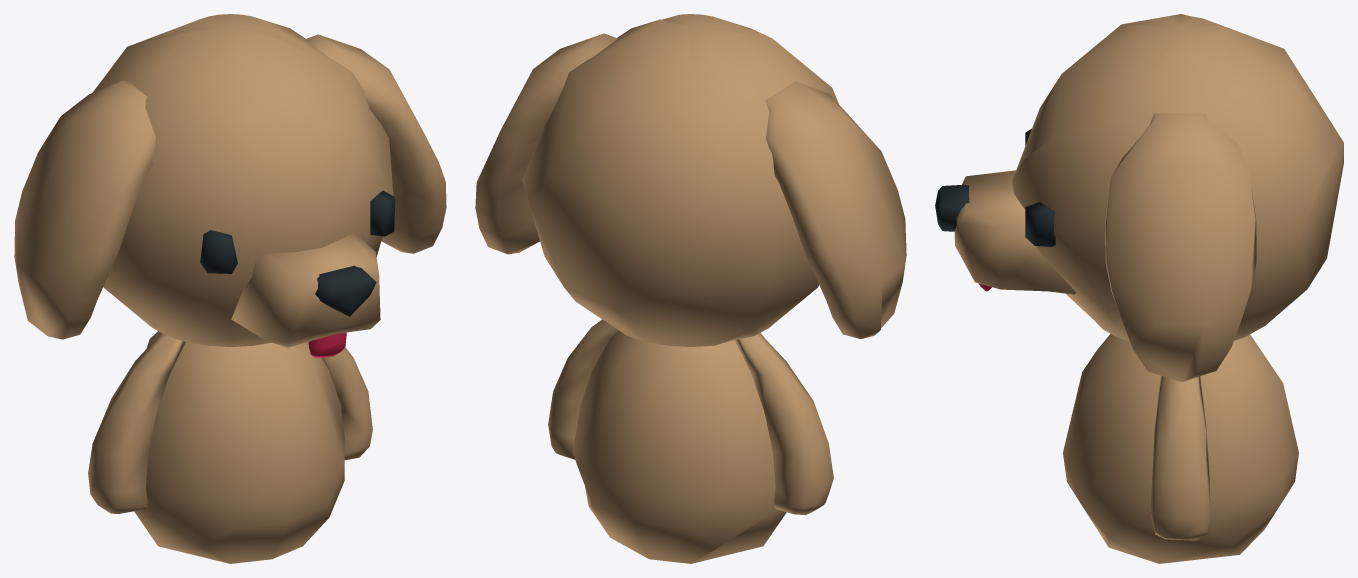
File: dog.glb
3 renders of one model, left to right at view 1: azimuth 30°, elevation 25°; view 2: azimuth 150°, elevation 25°; view 3: azimuth 270°, elevation 25°, orthographic.
Visible parts, largest first — view 1: character_dog; view 2: character_dog; view 3: character_dog.
Boxes of the visible parts, x1=… form: character_dog: x1=14, y1=14, x2=446, y2=563; character_dog: x1=475, y1=14, x2=906, y2=563; character_dog: x1=935, y1=14, x2=1343, y2=563.
Bounding box in the file's own units: 1.38 × 1.64 × 1.21.
